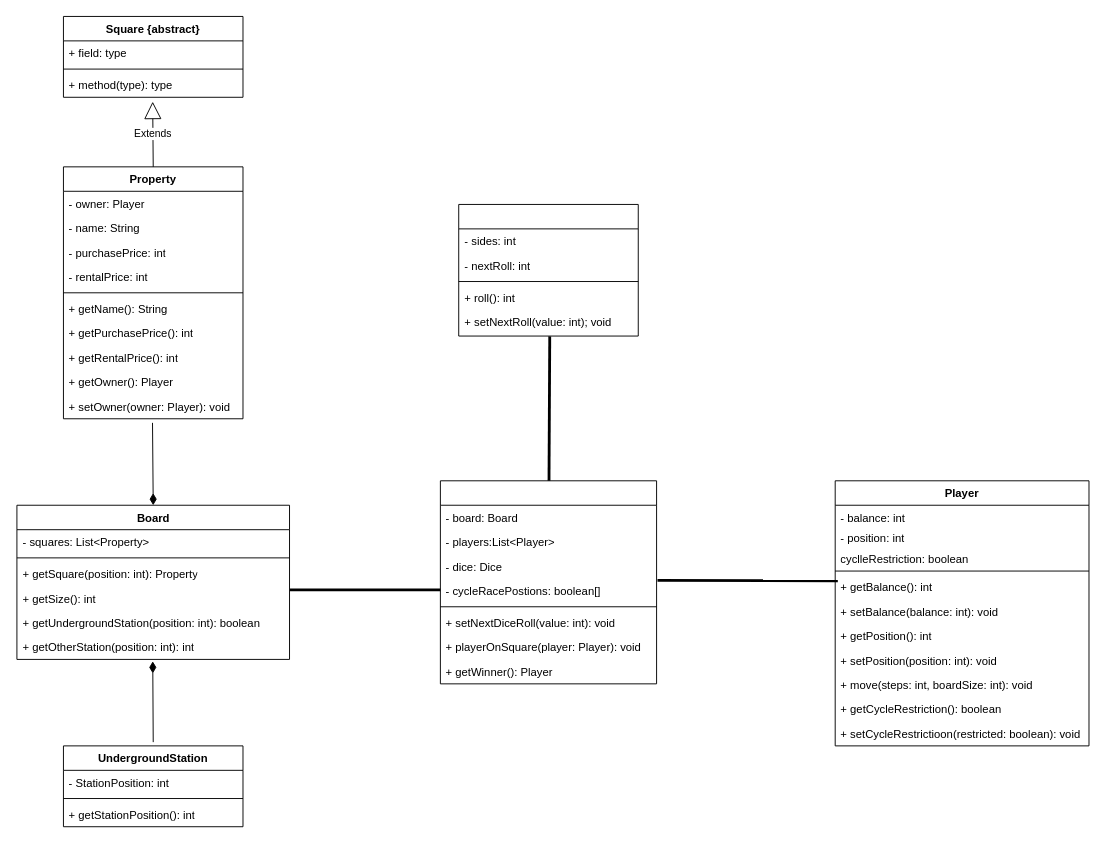
Image size: 1105x846. Some labels were removed from this diagram. Here are the shapes that lost their labels. From the top down, the box of each, then its label:
(458, 204, 638, 336): Dice
(439, 480, 657, 684): Game
